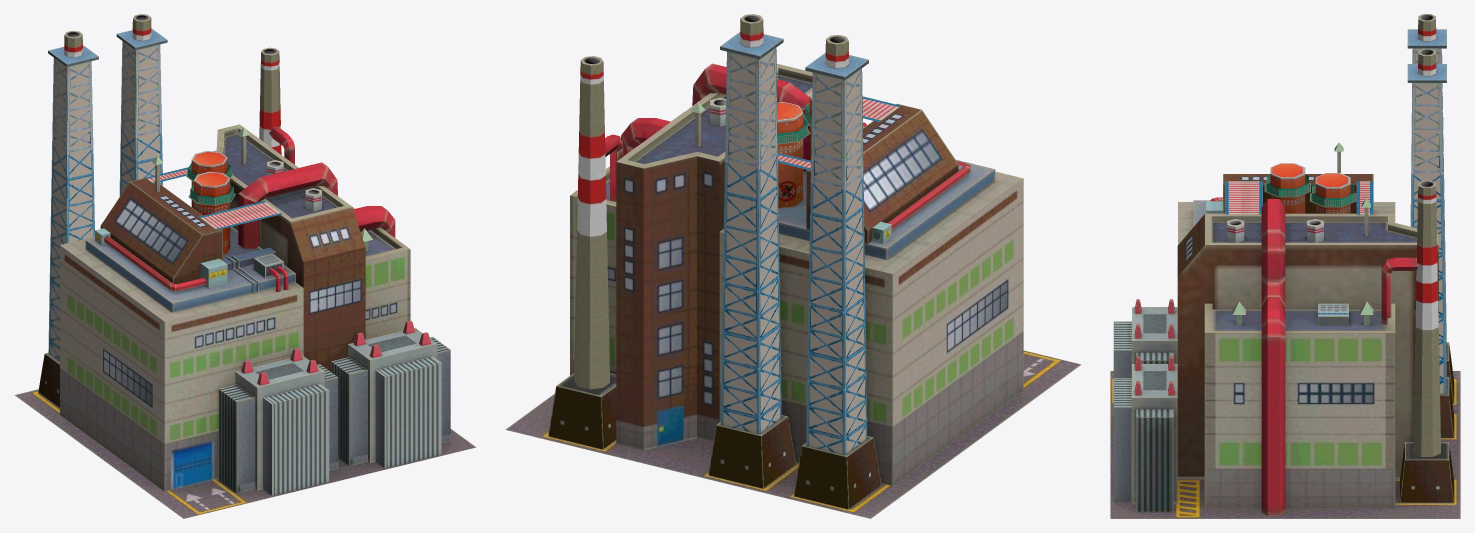
The model's file is L厂房5.obj.
3 views of the same model, side by side, from view 1: azimuth 30°, elevation 25°; view 2: azimuth 150°, elevation 25°; view 3: azimuth 270°, elevation 25° (orthographic). The views are drawn at different scales.
Visible parts, largest first — view 1: gongchang04; view 2: gongchang04; view 3: gongchang04.
Boxes of the visible parts, x1=… form: gongchang04: x1=14, y1=14, x2=476, y2=518; gongchang04: x1=505, y1=14, x2=1081, y2=518; gongchang04: x1=1110, y1=14, x2=1460, y2=518.
Size of the model in its own units: 5.08 by 6 by 5.08.
